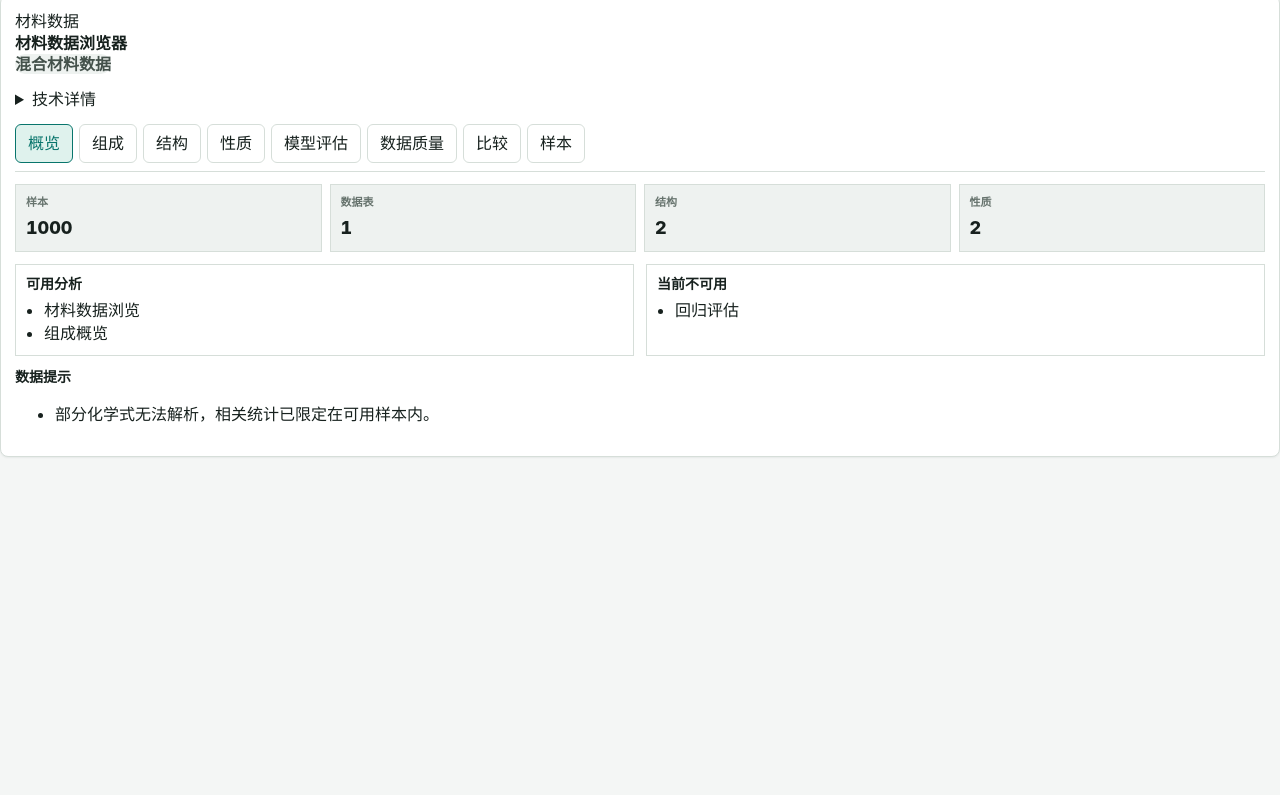
DatasetMaterialsExplorerPanel › keeps sample totals separate from bounded index pages and disables pagination at both boundaries
Click the tab "样本".
click(556, 143)  # box [527,124,585,163]
(page scrolled)
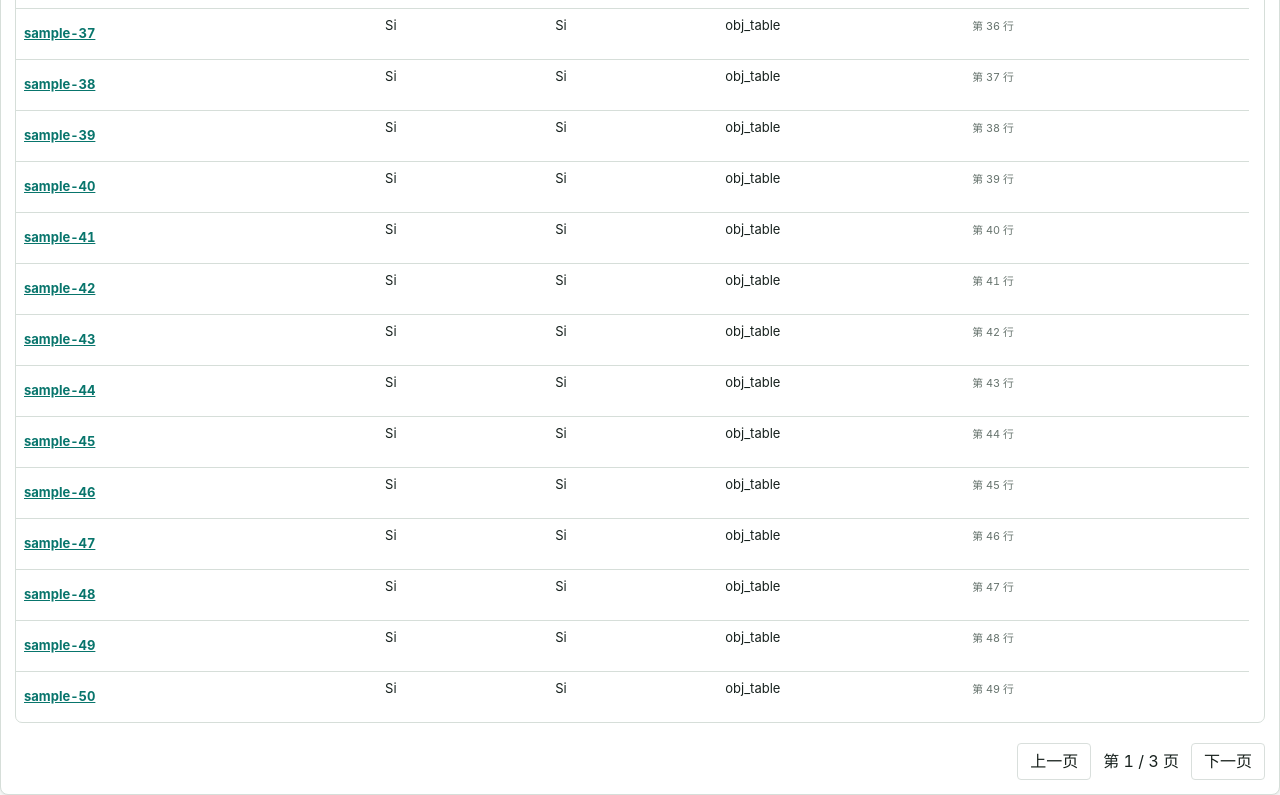
Check: the button "上一页" is disabled, box [1017,743,1091,780]
Check: the button "下一页" is enabled
Click the button "下一页".
click(1228, 761)  # box [1191,743,1265,780]
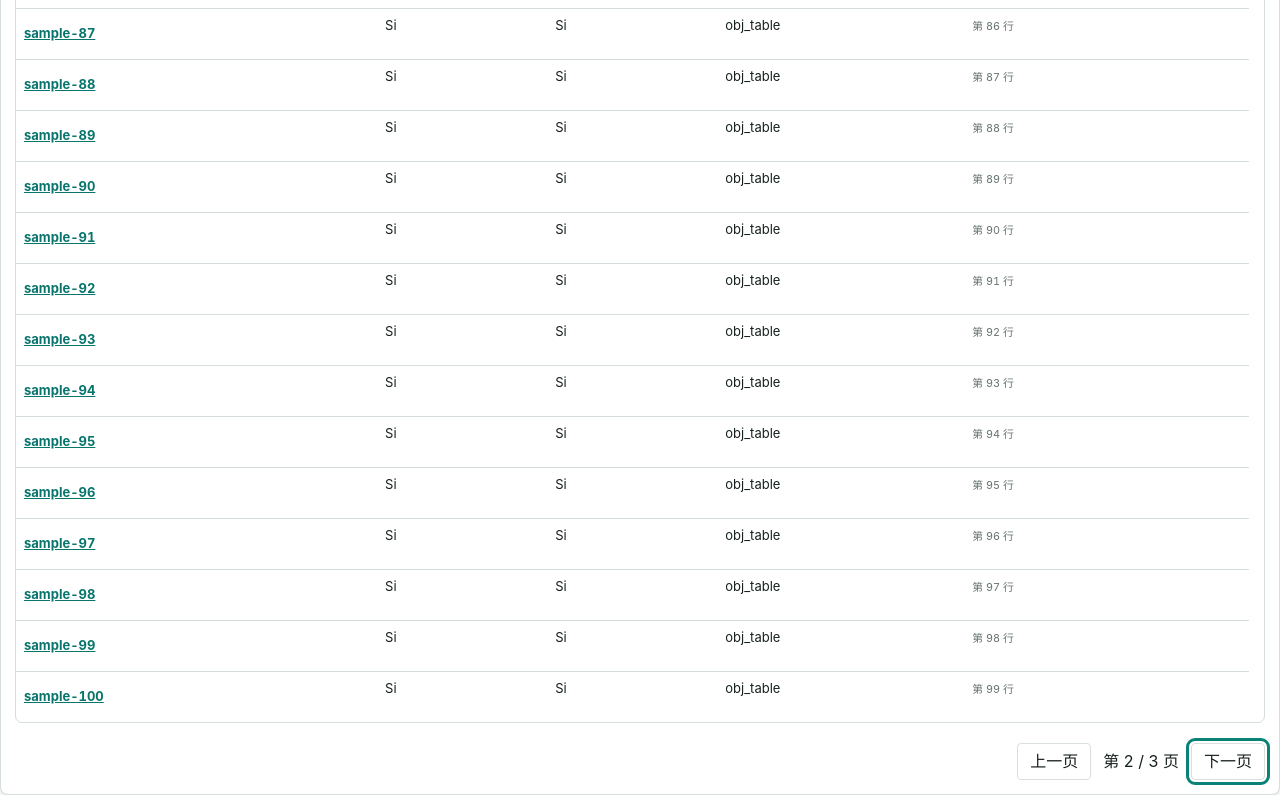
Click the button "下一页".
click(1228, 761)  # box [1191,743,1265,780]
(page scrolled)
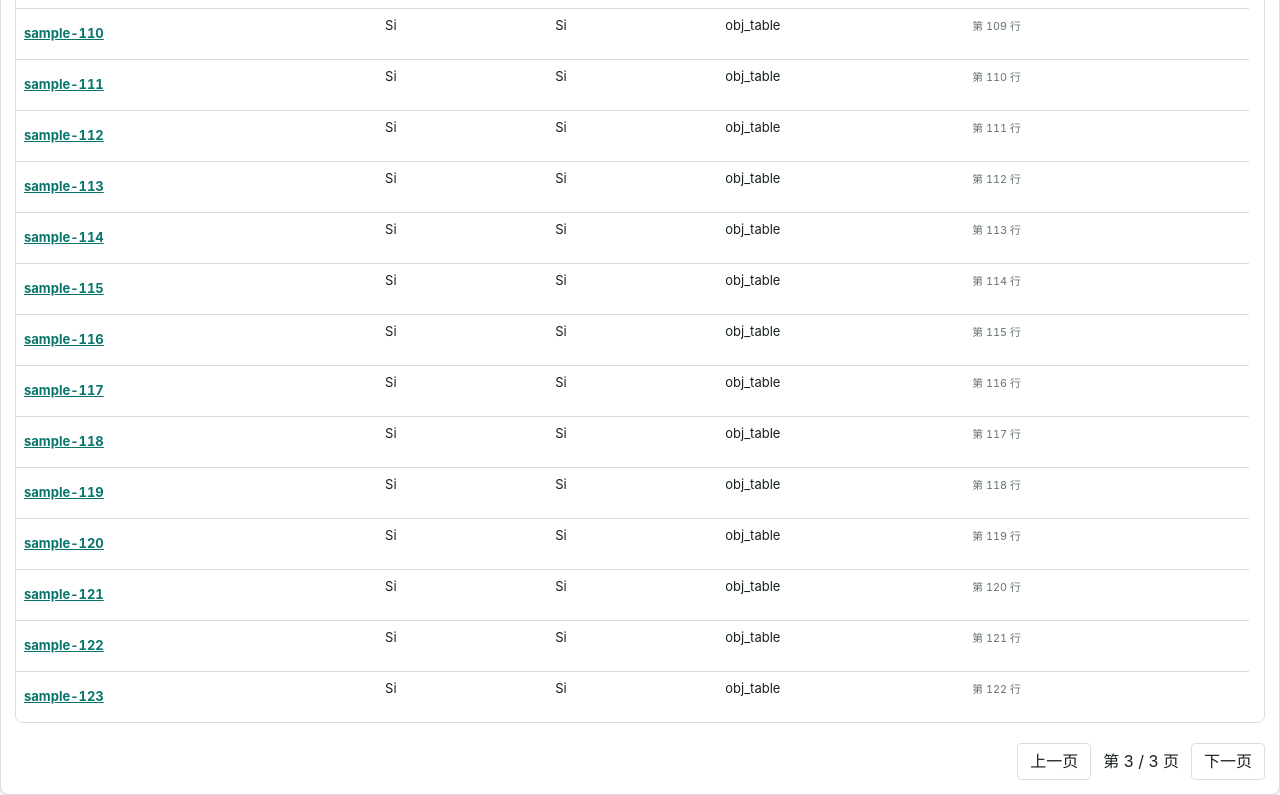
Check: the button with aria-label "sample-123 from obj_table" is shown, box [24,679,104,715]
